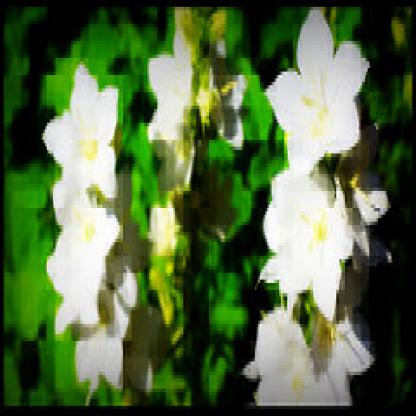Rose-Mawar: (268, 11, 374, 414), (48, 52, 145, 380)
